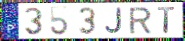3: (24, 6, 45, 36), (78, 6, 97, 35)
5: (49, 5, 72, 37)
J: (104, 7, 124, 35)
R: (128, 6, 153, 35)
T: (157, 6, 178, 35)
